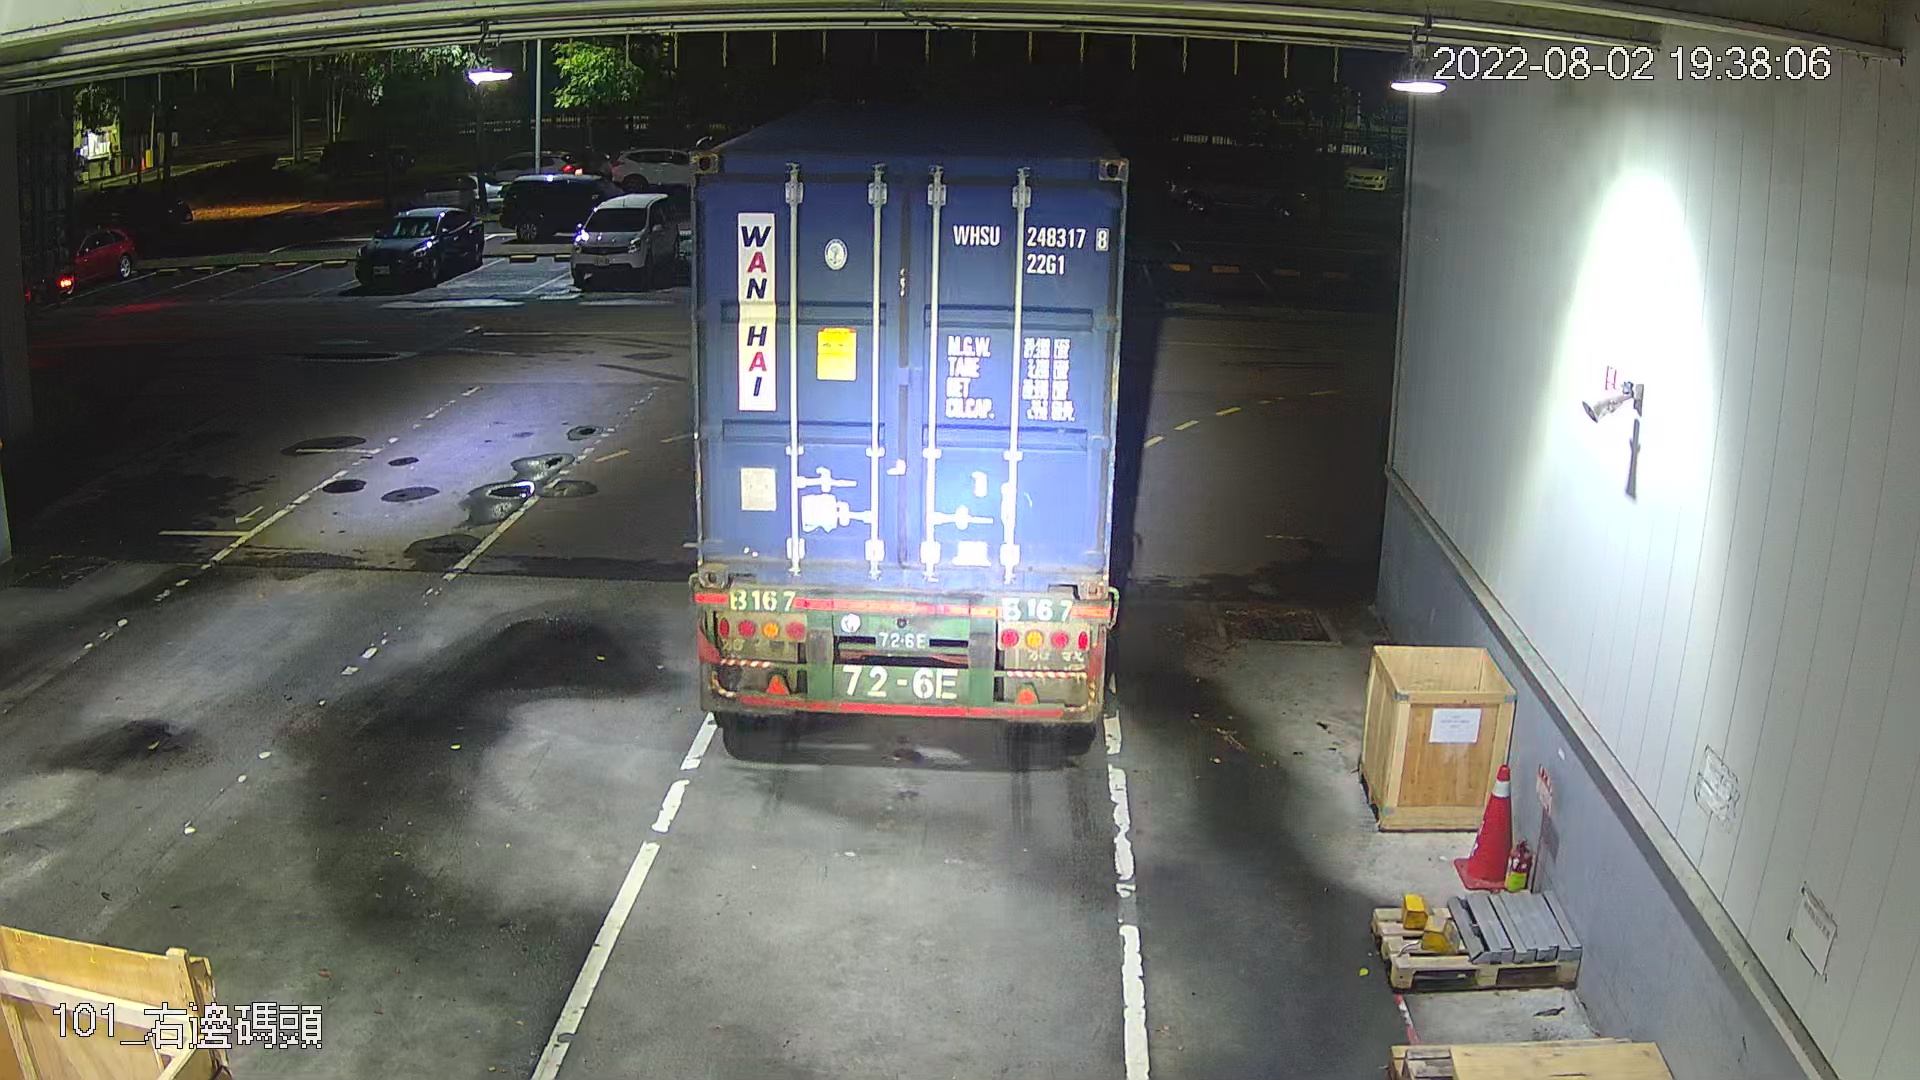container: (945, 216, 1117, 286)
